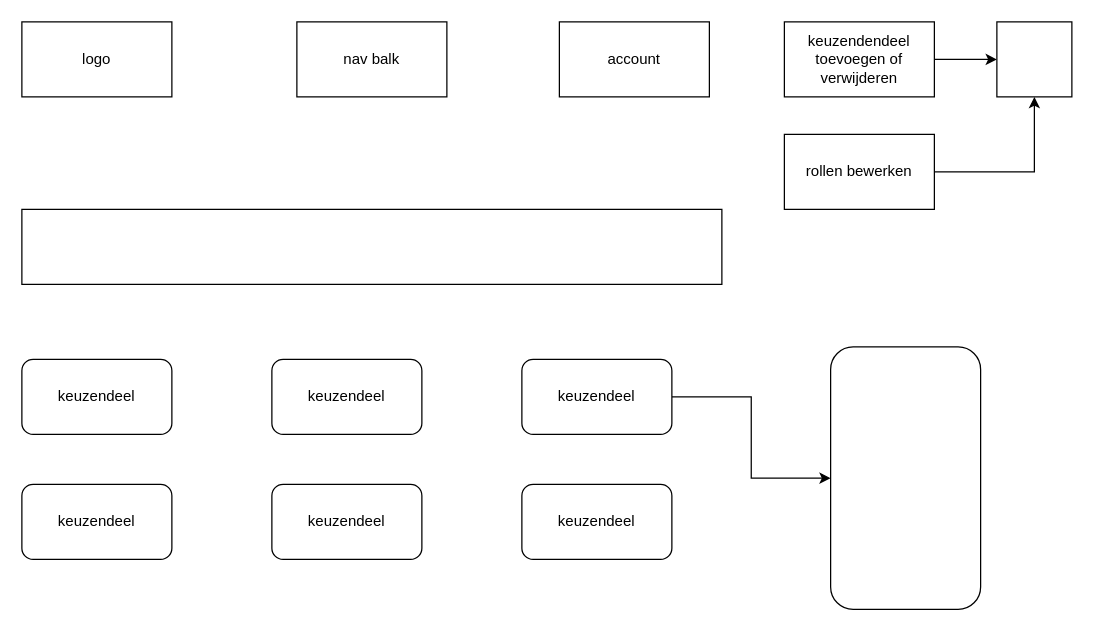
The diagram is 1094 pixels wide and 631 high, and some of its shapes have lost their labels. Here are the shapes that lost their labels. From the top down, the centre of each, then its label:
(1034,59): burger menu
(371,246): tekst: kies hier je keuzendeel
(905,477): keuzendeel pop-up beschrijving keuzendeel
